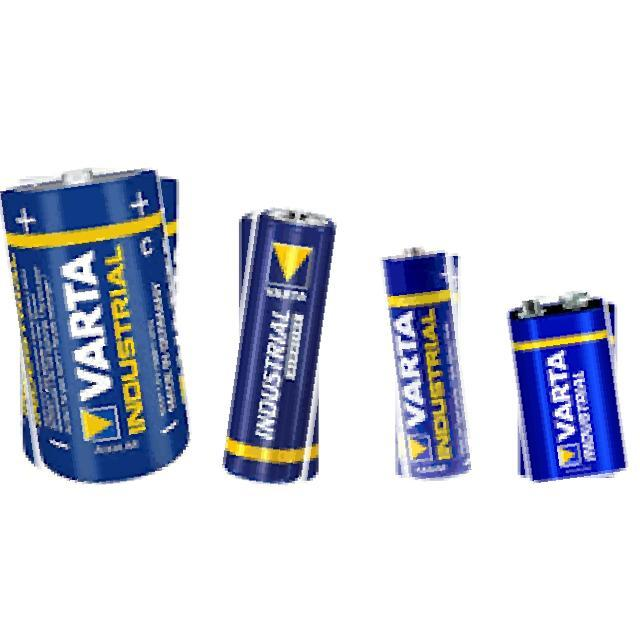Battery: (0, 151, 194, 501), (216, 197, 338, 499), (492, 267, 626, 499), (372, 224, 474, 500)
